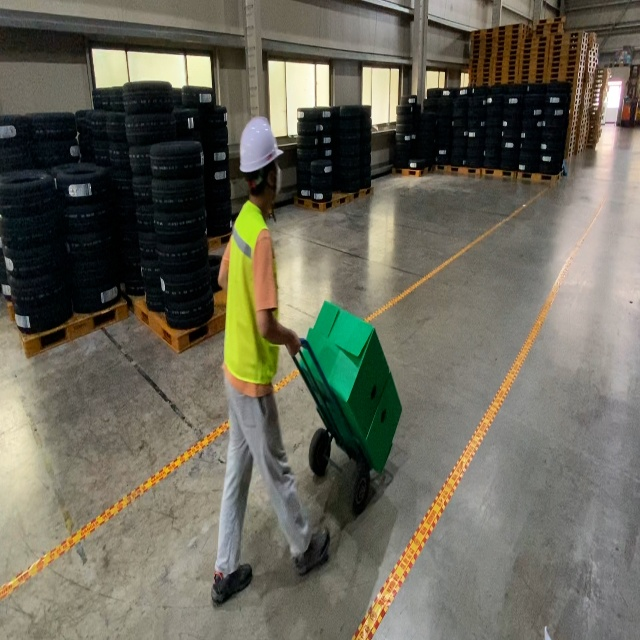Box: (298, 300, 389, 441)
Worker: (210, 116, 330, 605)
